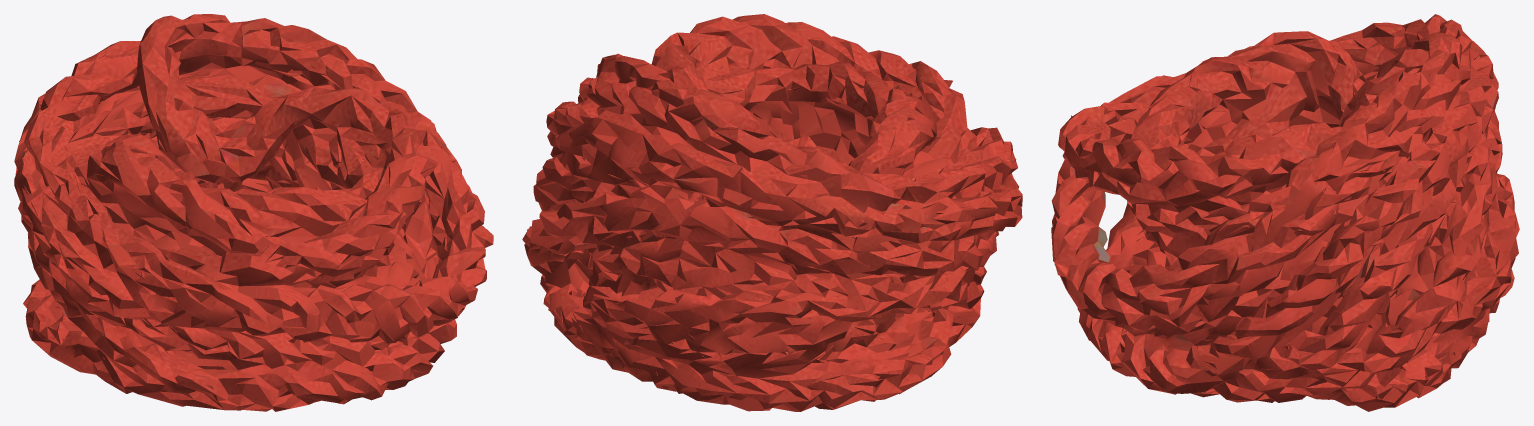
The model's file is scarf_coral_prop.glb.
3 views of the same model, side by side, from view 1: azimuth 30°, elevation 25°; view 2: azimuth 150°, elevation 25°; view 3: azimuth 270°, elevation 25° (orthographic). The views are drawn at different scales.
Parts seen in each view (by area): view 1: mesh_node; view 2: mesh_node; view 3: mesh_node.
Part boxes in pixels (left/top/right/bottom): mesh_node: left=14, top=14, right=493, bottom=411; mesh_node: left=522, top=14, right=1022, bottom=411; mesh_node: left=1051, top=14, right=1519, bottom=411.
Bounding box in the file's own units: 1.9 × 1.24 × 1.8.
Materials: 1 (1 with a texture image).
